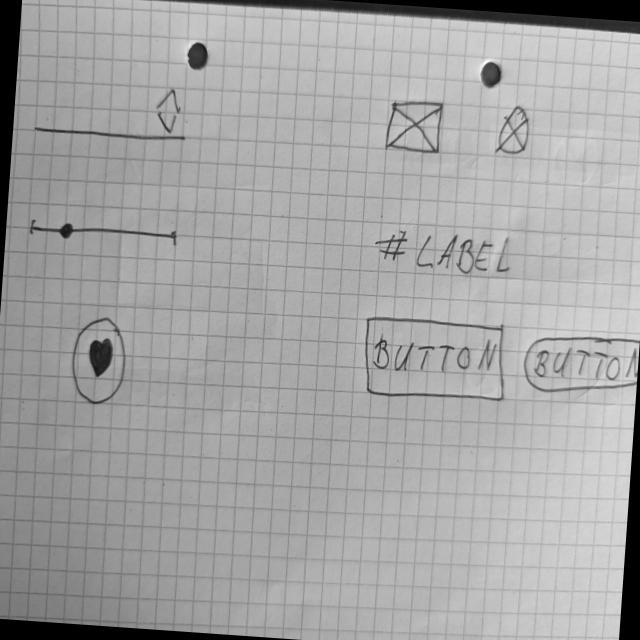button: (359, 312, 508, 406), (520, 327, 640, 399)
icon-button: (68, 312, 130, 408)
image: (383, 96, 444, 158), (492, 102, 534, 158)
label: (371, 224, 514, 280)
number-input: (31, 76, 190, 146)
slider: (26, 214, 180, 248)
